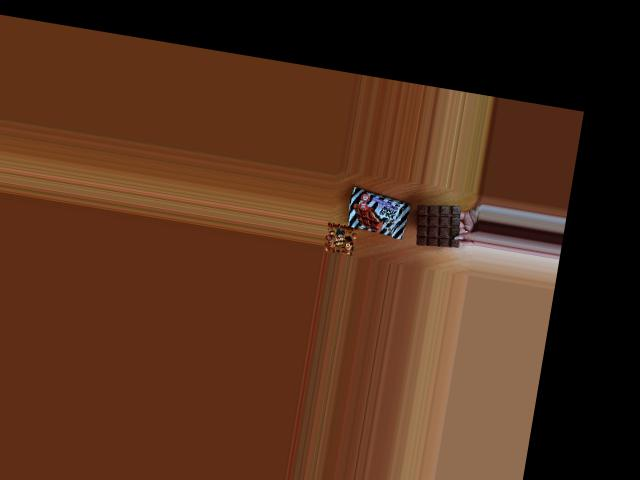chocolate: (342, 187, 414, 238)
